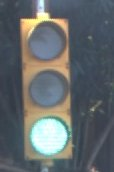Green: (9, 11, 80, 160)
